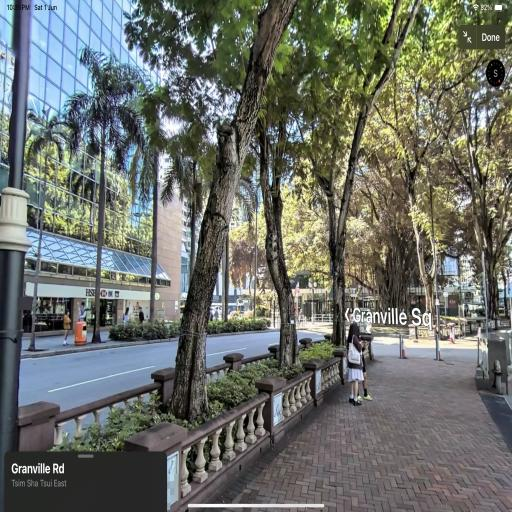Roads: (0, 314, 345, 424)
Trees: (134, 0, 309, 384), (130, 0, 281, 406), (346, 0, 512, 333)
